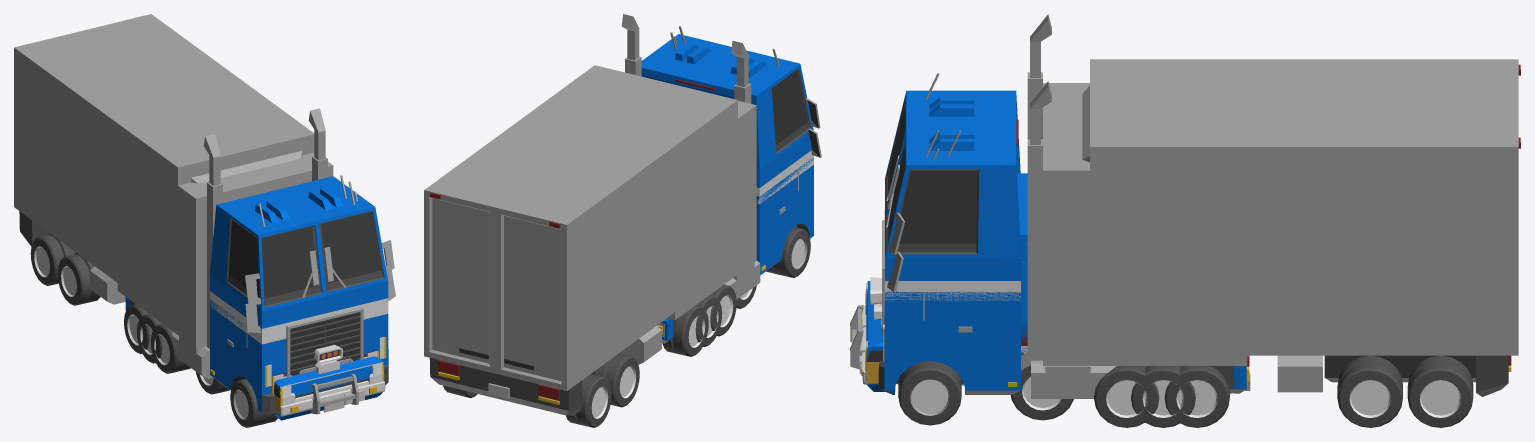
File: CarPack.fbx
The picture shows the model from 3 angles, left to right: view 1: azimuth 30°, elevation 25°; view 2: azimuth 150°, elevation 25°; view 3: azimuth 270°, elevation 25°; orthographic projection. The views are drawn at different scales.
Visible parts, largest first — view 1: scocca13, scocca12, scocca14, scocca1, scocca4, FR13, RR13, FR12, RR12, RR12B, scocca6, RR14 (+2 smaller); view 2: scocca13, scocca12, scocca14, FR13, RR13, RR12B, FR12, RR12, RR14; view 3: scocca13, scocca12, scocca14, RL13, FL13, FL12, RL12, RL12B, RL14, scocca1, RL5, scocca5 (+1 smaller).
Boxes of the visible parts, <box> form: scocca13: <box>14,14,314,304</box>; scocca12: <box>125,108,394,415</box>; scocca14: <box>117,142,395,396</box>; scocca1: <box>274,344,385,414</box>; scocca4: <box>280,362,384,415</box>; FR13: <box>57,254,100,305</box>; RR13: <box>30,234,75,285</box>; FR12: <box>230,379,270,427</box>; RR12: <box>150,324,190,373</box>; RR12B: <box>124,304,149,354</box>; scocca6: <box>310,374,358,414</box>; RR14: <box>136,314,162,363</box>; scocca13: <box>424,65,737,415</box>; scocca12: <box>621,14,820,343</box>; scocca14: <box>657,36,821,340</box>; FR13: <box>593,353,639,407</box>; RR13: <box>566,374,611,427</box>; RR12B: <box>662,305,708,356</box>; FR12: <box>770,227,810,277</box>; RR12: <box>710,284,736,336</box>; RR14: <box>695,295,722,346</box>; scocca13: <box>1082,59,1520,396</box>; scocca12: <box>878,14,1249,394</box>; scocca14: <box>879,83,1250,398</box>; RL13: <box>1407,355,1473,427</box>; FL13: <box>1337,355,1402,427</box>; FL12: <box>898,361,961,425</box>; RL12: <box>1094,366,1159,427</box>; RL12B: <box>1164,366,1229,427</box>; RL14: <box>1131,366,1195,427</box>; scocca1: <box>859,277,882,382</box>; RL5: <box>1010,365,1073,420</box>; scocca5: <box>881,173,1027,355</box>.
Size of the model in its own units: 1.55 by 2.55 by 4.64.
